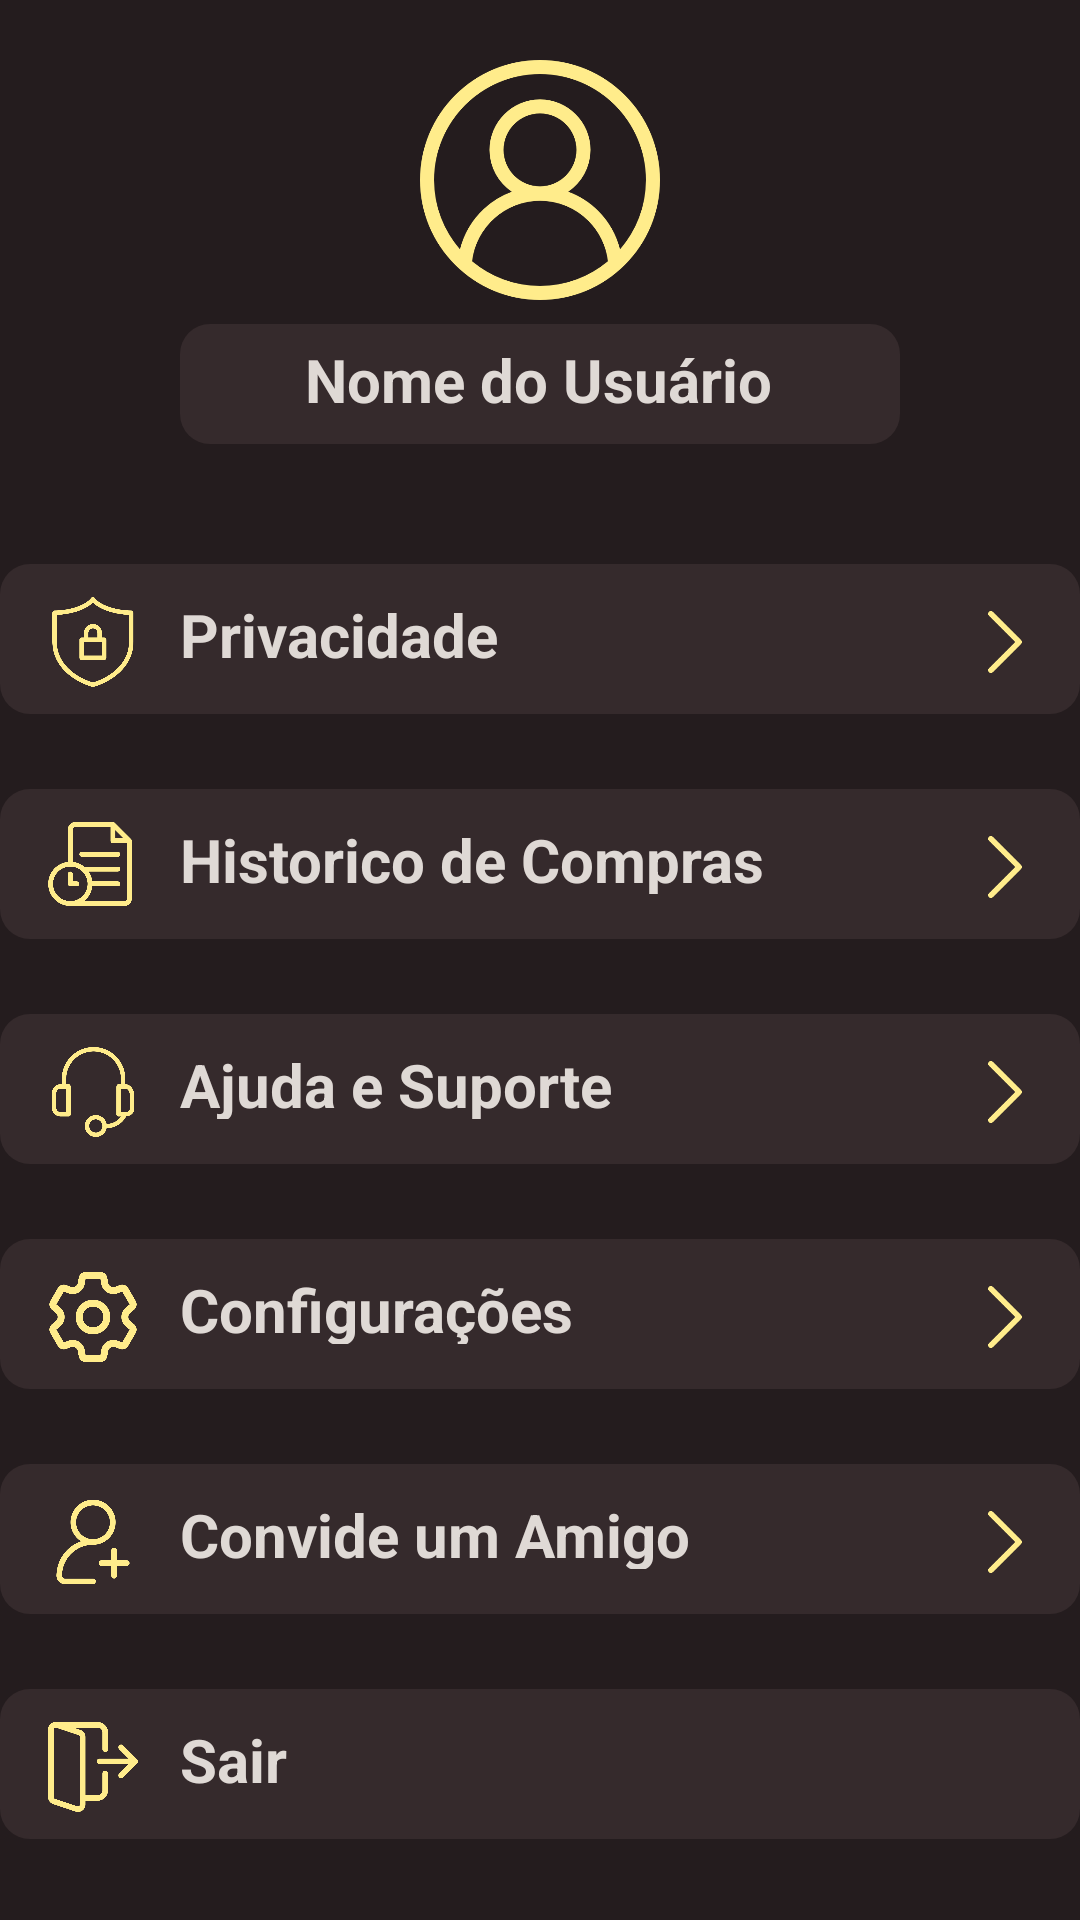

Icon bounding boxes for this 1080w x 1920h phone screenshot, format box(x1, y1, x2, y2):
configuracao: box(49, 1272, 137, 1362)
historicoo: box(48, 822, 132, 906)
perfil: box(420, 60, 660, 300)
setaa: box(988, 611, 1022, 673), box(988, 836, 1022, 898), box(988, 1061, 1022, 1123), box(988, 1286, 1022, 1348), box(988, 1511, 1022, 1573)
suportee: box(52, 1047, 134, 1137)
